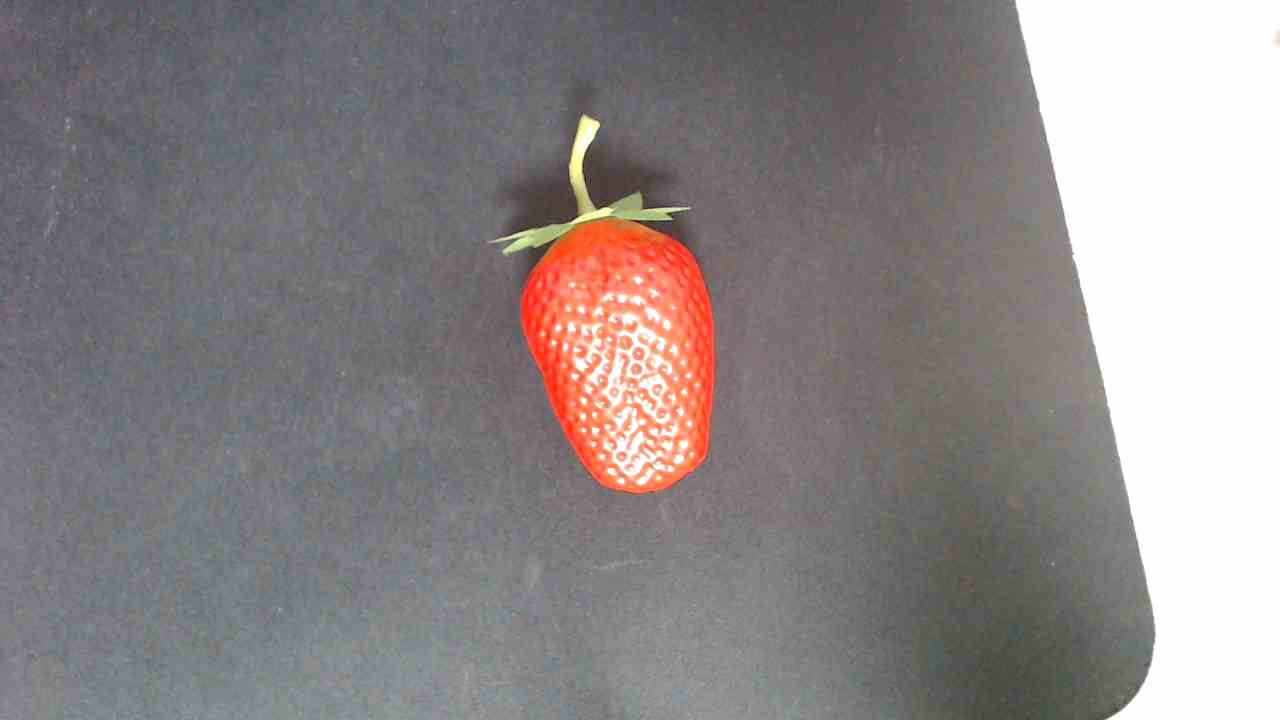strawberry: (516, 204, 741, 501)
